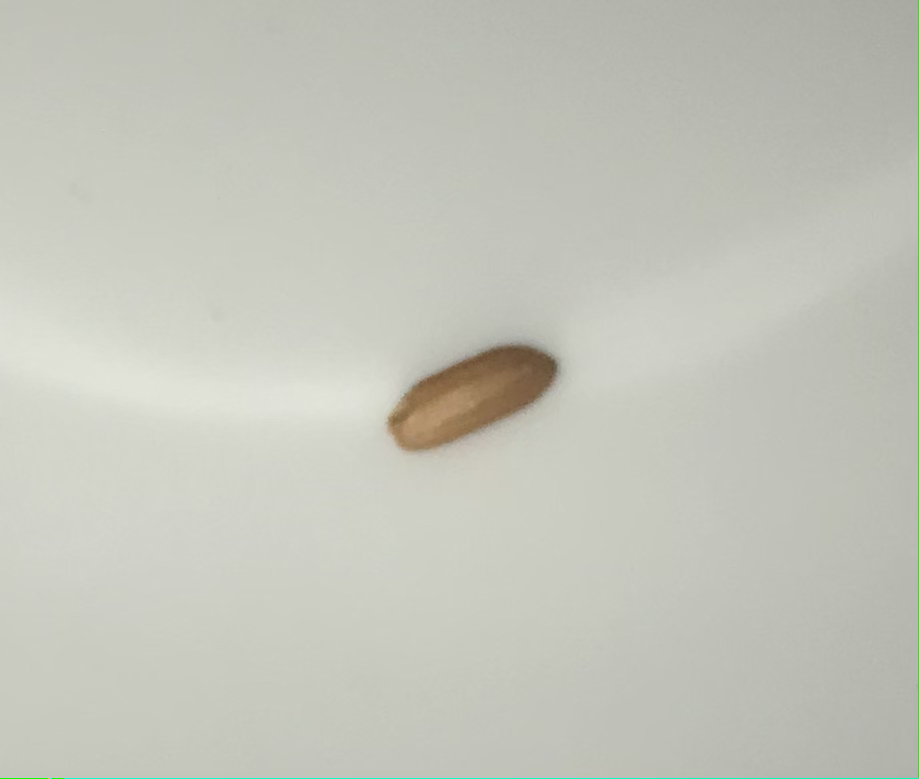Gao Lut Dien Bien: (391, 342, 563, 448)
